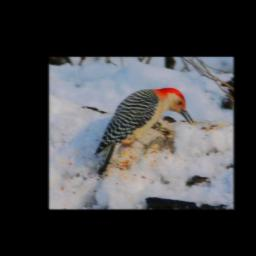Woodpecker: (92, 87, 195, 180)
